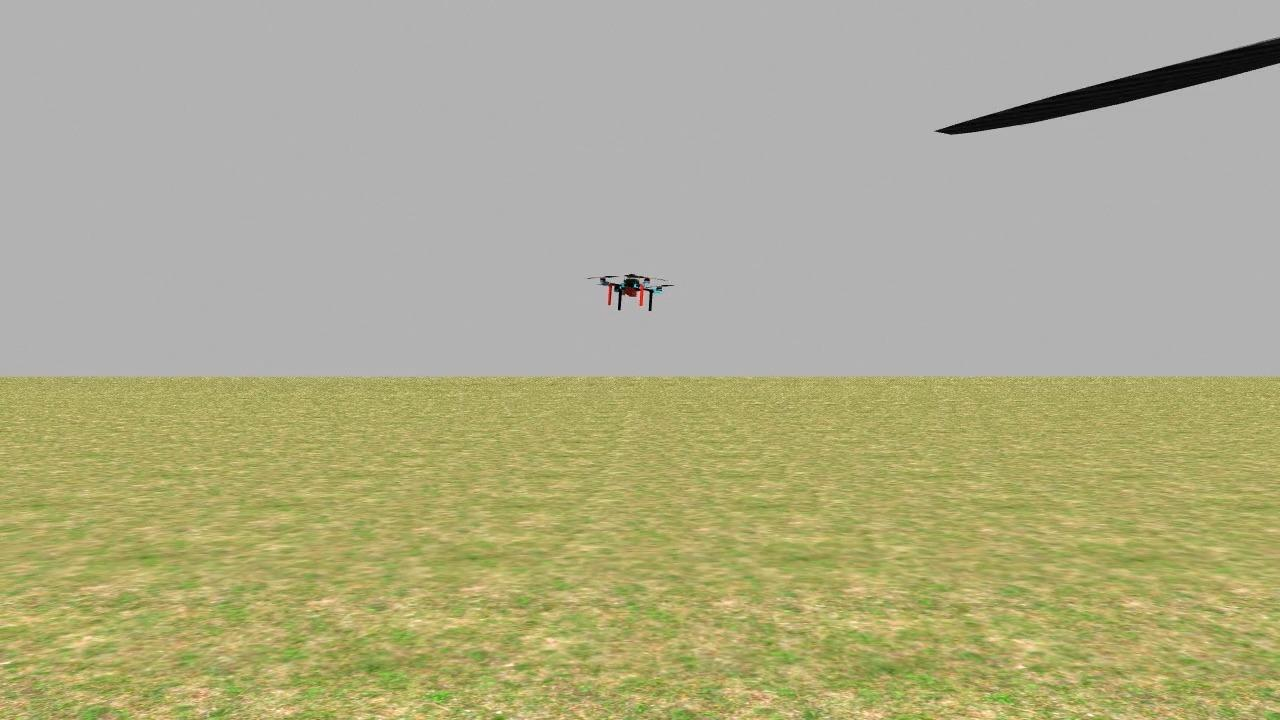UAV: (587, 266, 670, 318)
